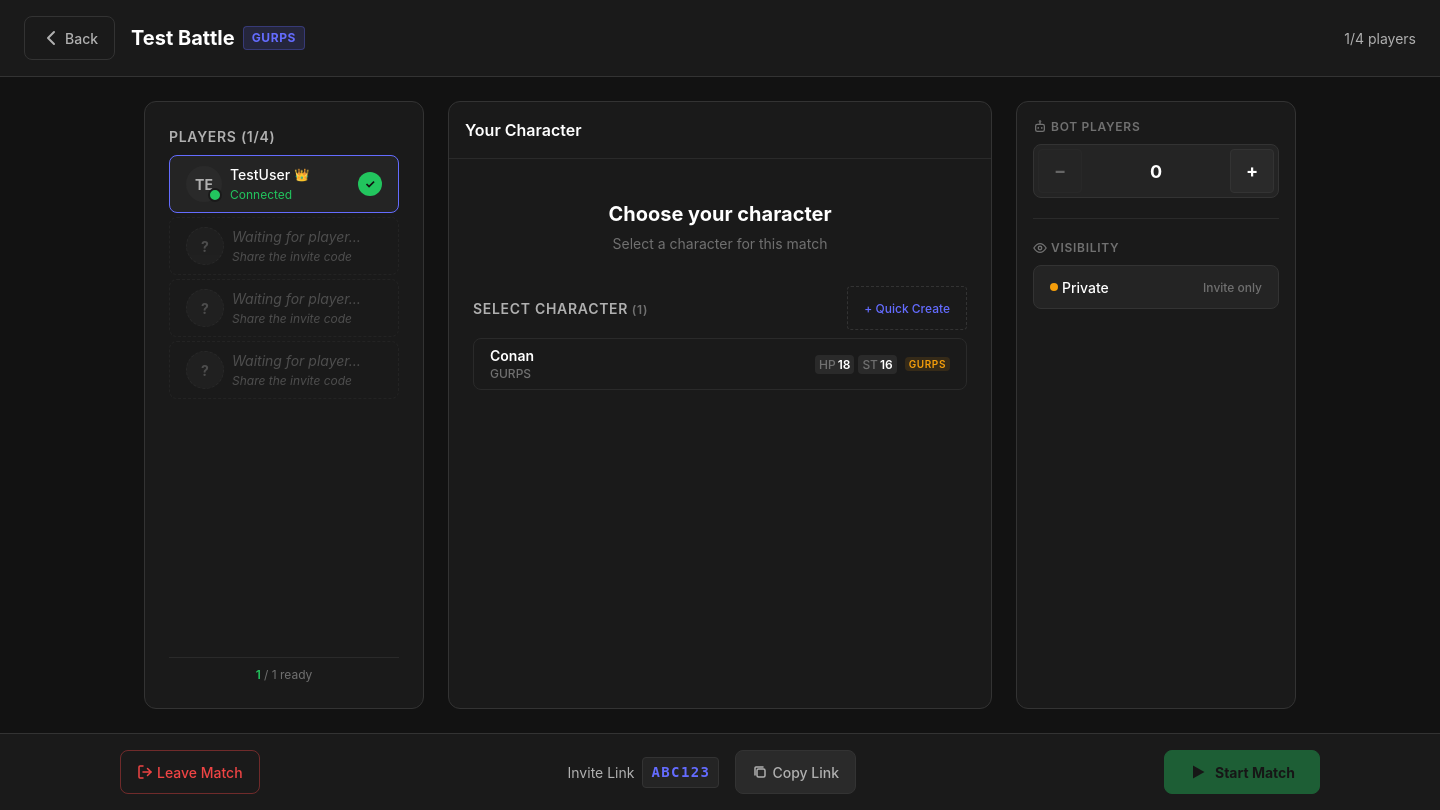
Scenario: LobbyScreen › clicking Add Bot increments bot count
This screenshot has width=1440, height=810.
Expected: the button "Start Match" is disabled, [1164,750,1320,794]
Click the button named "Add bot" at (1252, 171), box [1230,149,1274,193]
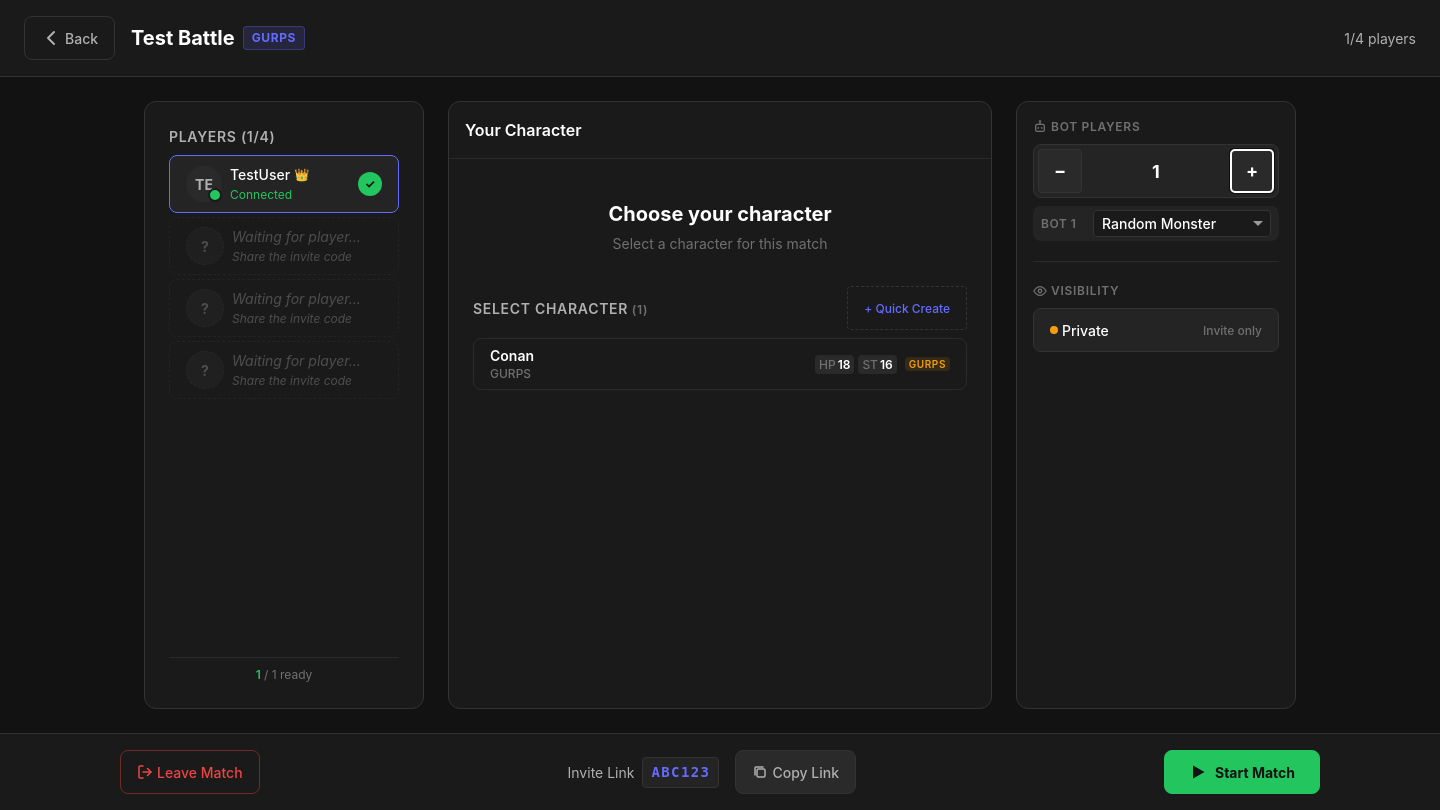
Expected: the button "Start Match" is enabled, [1164,750,1320,794]
